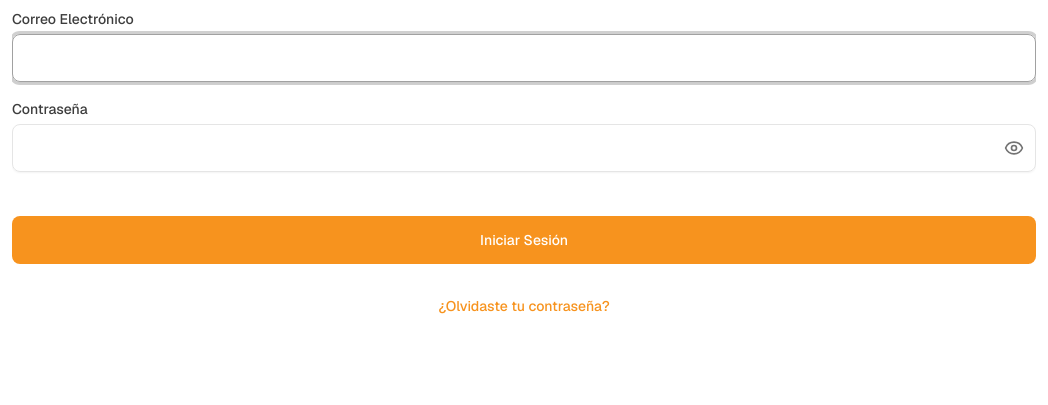
LoginForm › Error Handling › shows error message for invalid credentials
Type "test@example.com" into the field labelled "Correo Electrónico" at {"x": 524, "y": 58}, box 12,34 -> 1036,82
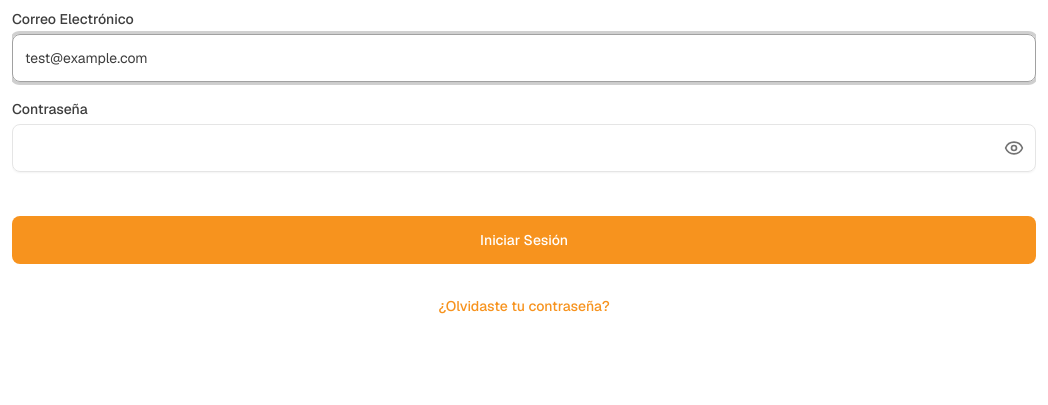
Type "wrongpassword" into the password field labelled "Contraseña" at {"x": 524, "y": 148}, box 12,124 -> 1036,172
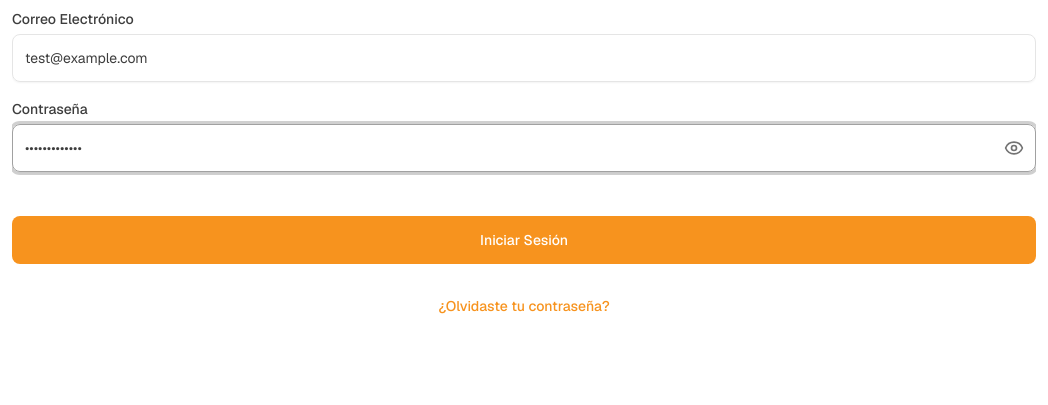
Click the button "Iniciar Sesión" at {"x": 524, "y": 240}, box 12,216 -> 1036,264
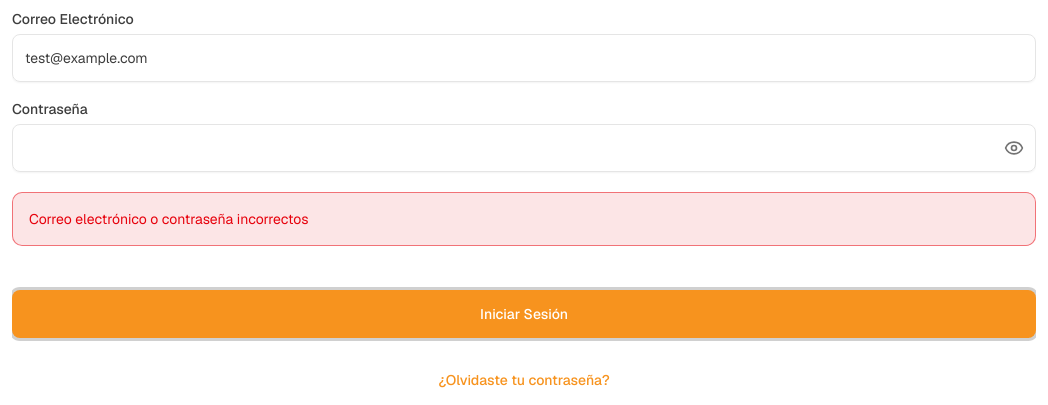
Check: the text "Correo electrónico o contraseña incorrectos" is shown, box 29,210 -> 308,228
